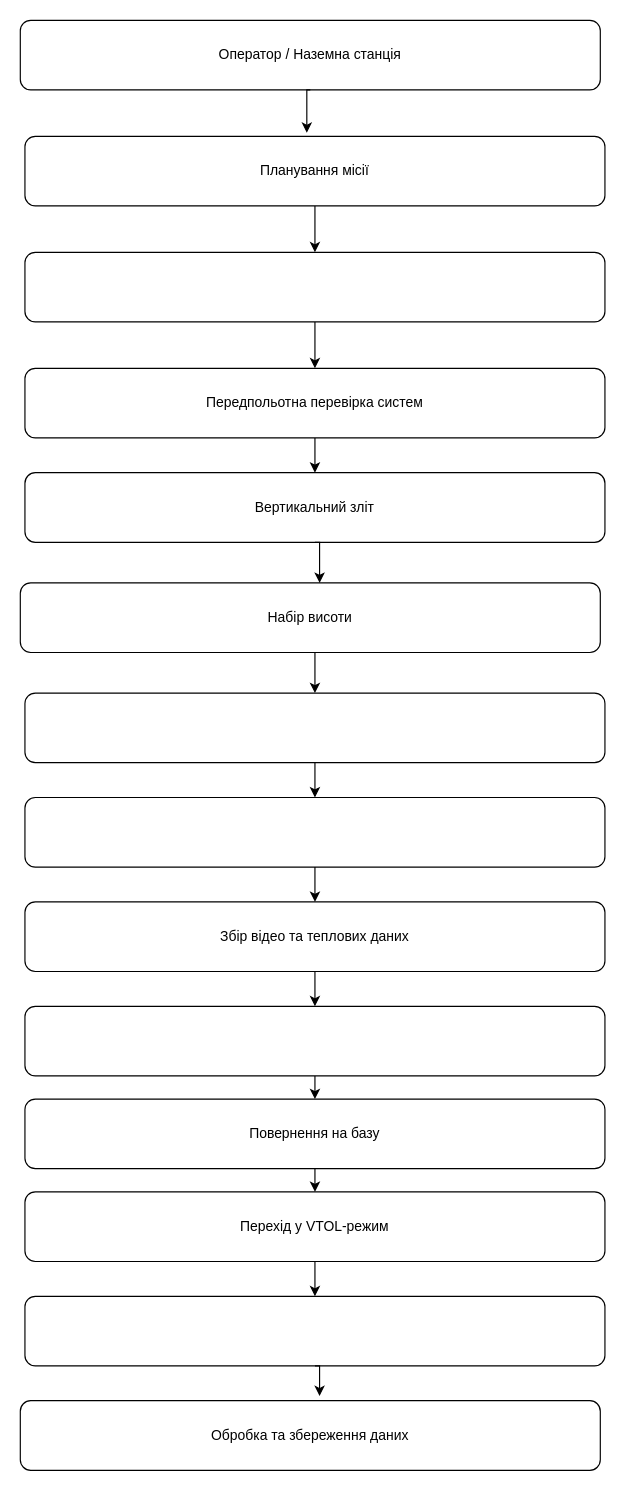
The diagram is 625 pixels wide and 1491 high, and some of its shapes have lost their labels. Each missing label, with the centre of its shape:
Вертикальна посадка: point 314,1330
Відпрацювання маршруту: point 314,831
Передача даних на наземну станцію: point 314,1040
Передача маршруту в автопілот: point 314,286
Перехід у горизонтальний політ: point 314,727
